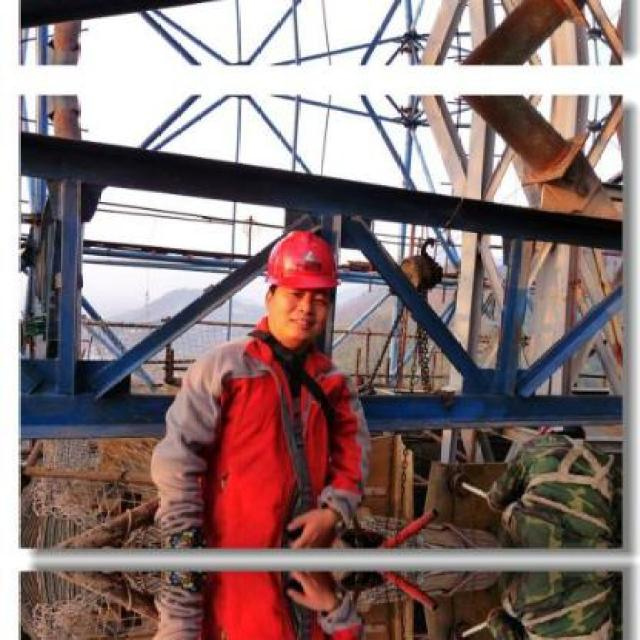helmet: (263, 221, 346, 348)
